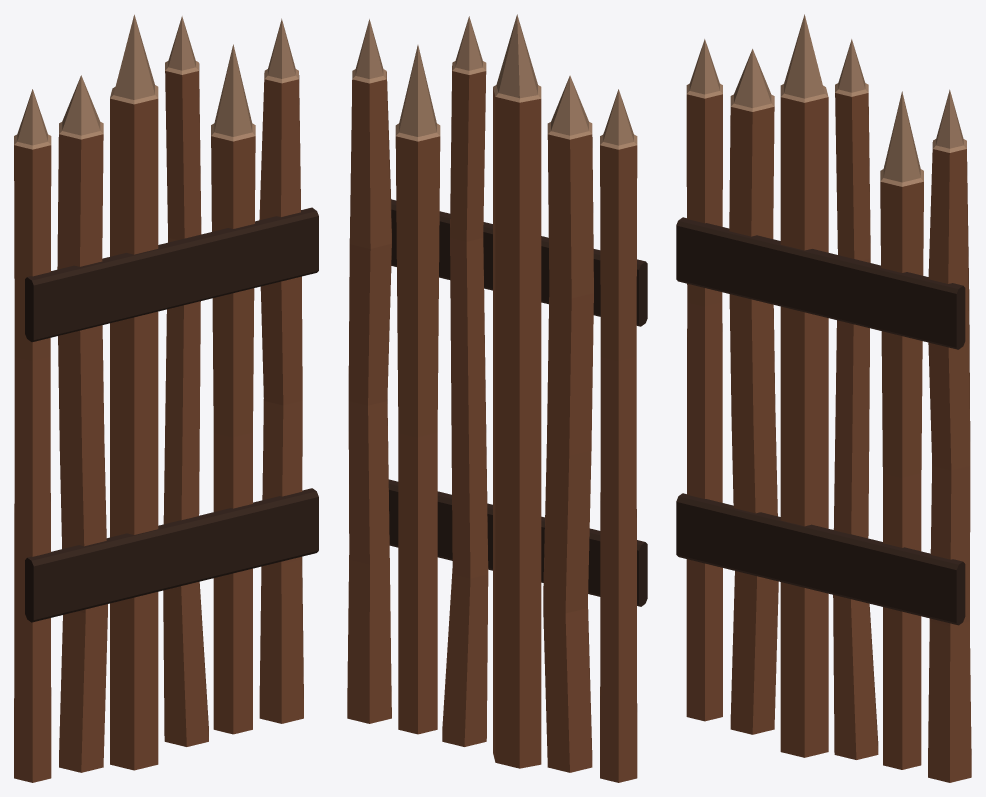
File: Empalizada_1x1.fbx
3 views of the same model, side by side, from view 1: azimuth 30°, elevation 25°; view 2: azimuth 150°, elevation 25°; view 3: azimuth 330°, elevation 25° (orthographic).
Visible parts, largest first — view 1: Empalizada_1x1; view 2: Empalizada_1x1; view 3: Empalizada_1x1.
Boxes of the visible parts, x1=… form: Empalizada_1x1: x1=14, y1=14, x2=318, y2=782; Empalizada_1x1: x1=347, y1=14, x2=647, y2=782; Empalizada_1x1: x1=676, y1=14, x2=971, y2=782.
Bounding box in the file's own units: 0.9587 × 2.35 × 0.1502.
